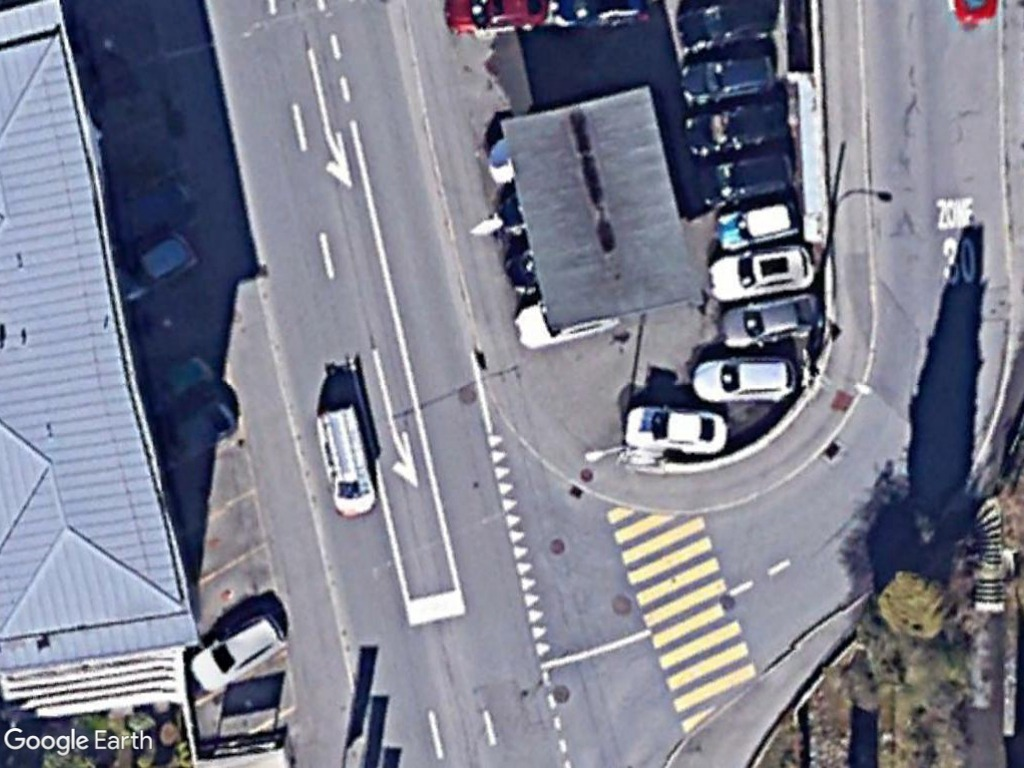car: (189, 606, 288, 696), (689, 149, 797, 214), (717, 288, 824, 353), (705, 243, 817, 303), (675, 47, 780, 108), (626, 404, 732, 458), (688, 357, 803, 406), (712, 199, 806, 250)
van: (313, 403, 381, 519)
